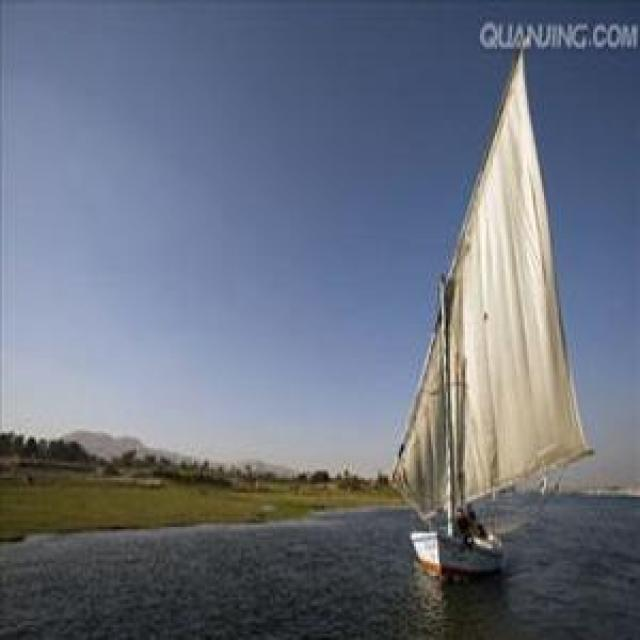sailboat: (383, 34, 594, 571)
